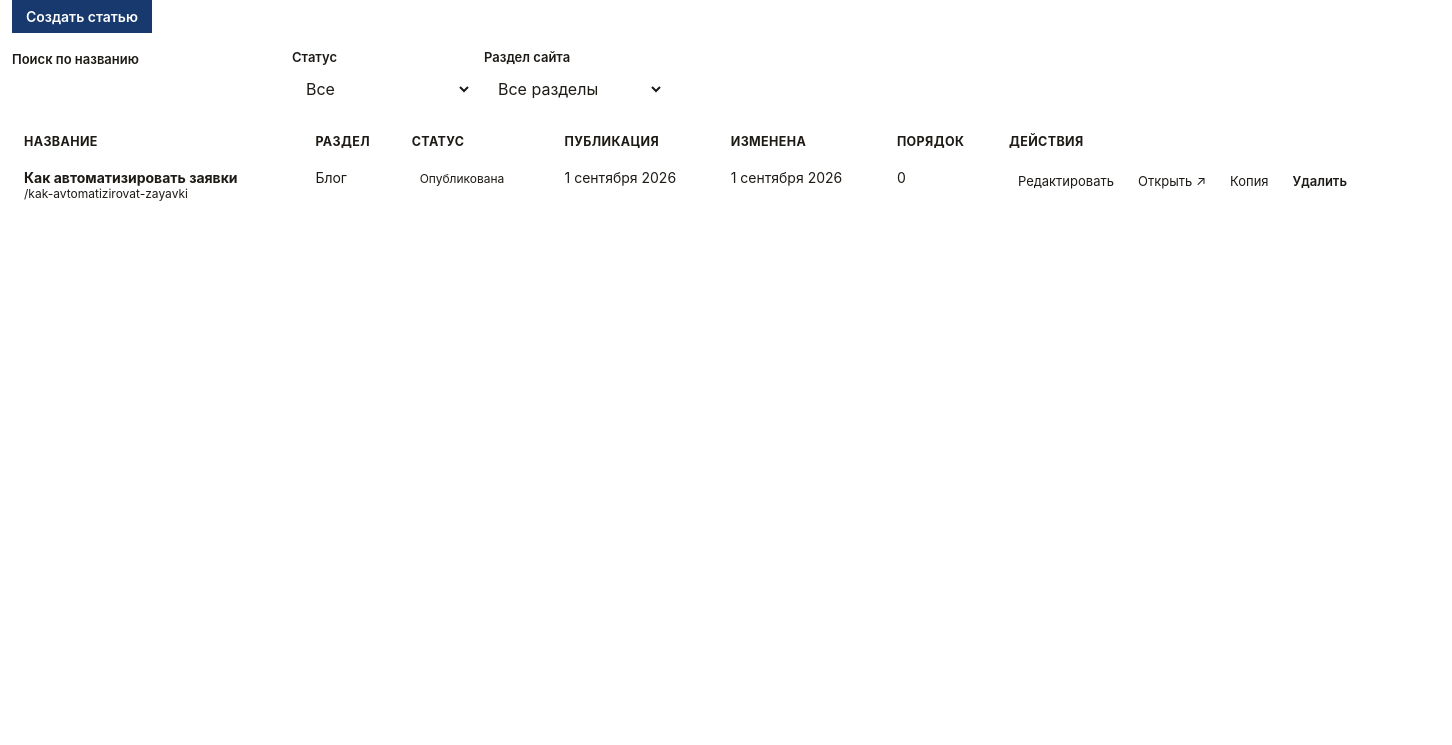
Test: пределы списка › кнопка добавления гаснет, когда подходящих материалов не осталось
Click the button "Редактировать" at (1066, 181), box [1009, 169, 1123, 193]
(page scrolled)
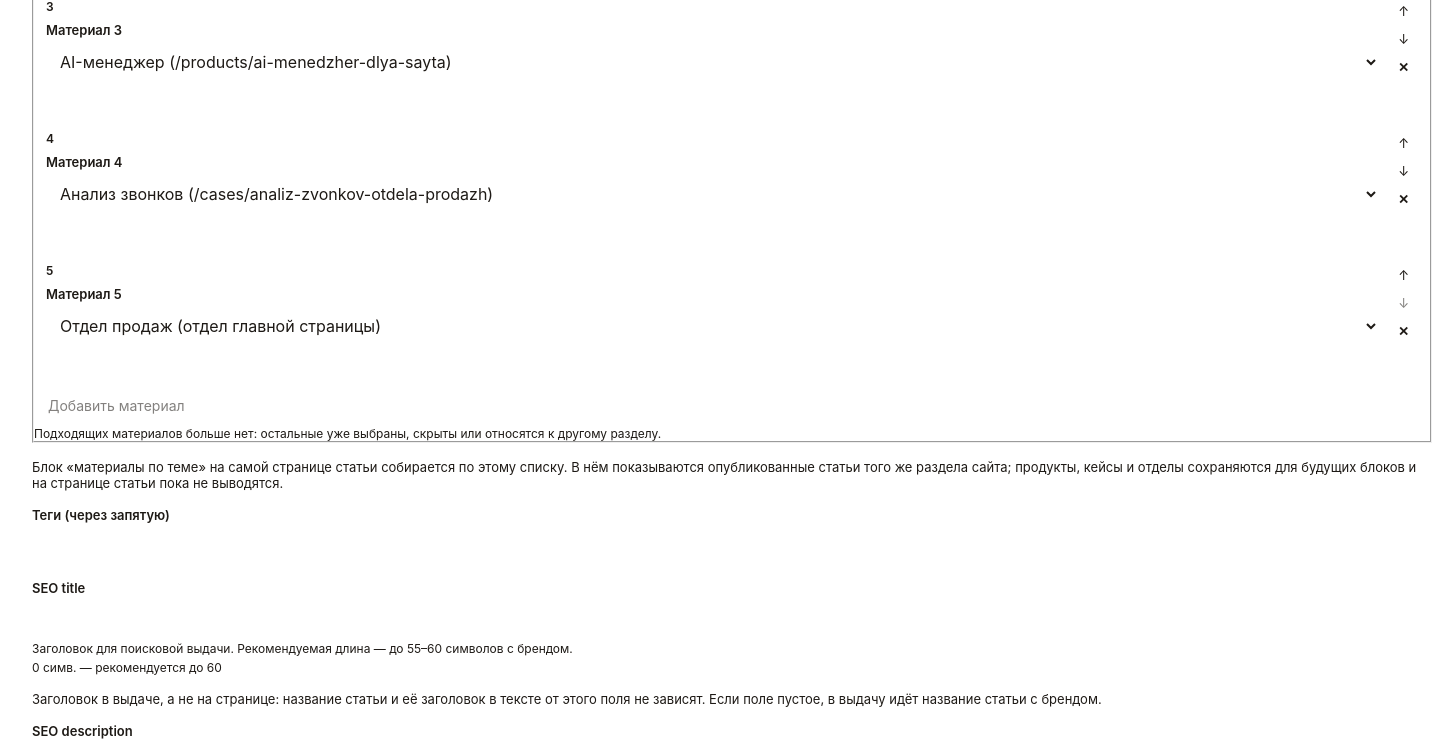
expect the button "Добавить материал" is disabled: met, box [34, 389, 199, 422]
